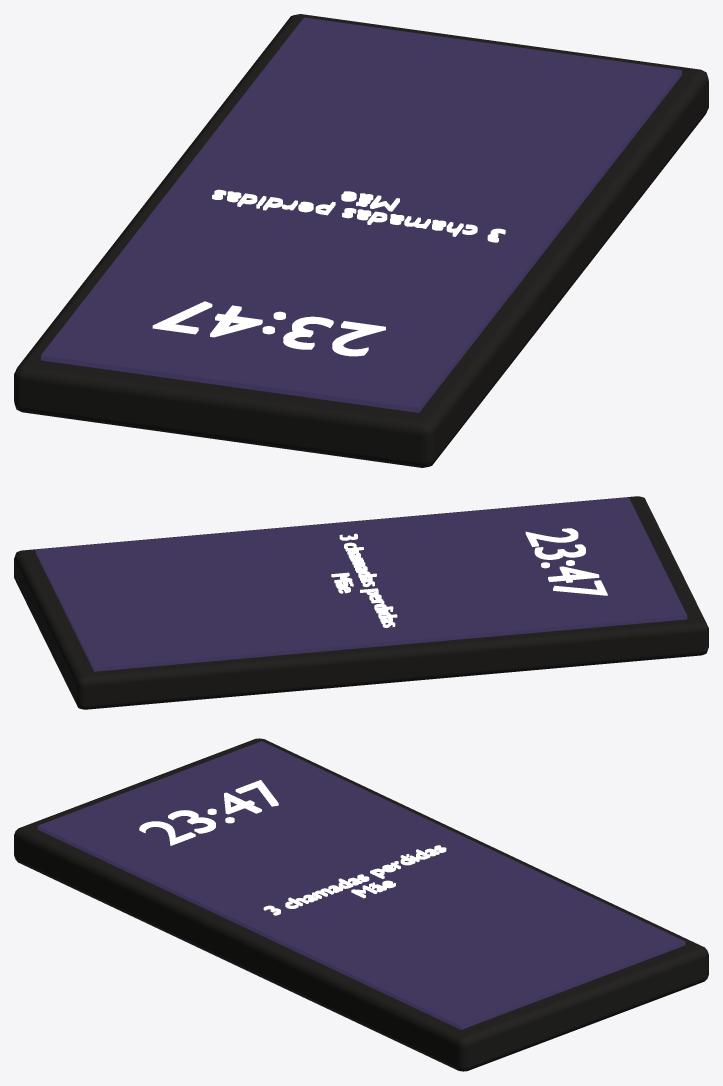
The model's file is ref_V_Celular.glb.
3 renders of one model, top to bottom at view 1: azimuth 30°, elevation 25°; view 2: azimuth 150°, elevation 25°; view 3: azimuth 270°, elevation 25°, orthographic. The views are drawn at different scales.
Visible parts, largest first — view 1: V_Celular_Tela, V_Celular_Corpo, V_Celular_Hora, V_Celular_Aviso; view 2: V_Celular_Tela, V_Celular_Corpo, V_Celular_Hora, V_Celular_Aviso; view 3: V_Celular_Tela, V_Celular_Corpo, V_Celular_Hora, V_Celular_Aviso.
Boxes of the visible parts, left/top/right/bottom form: V_Celular_Tela: left=41, top=17, right=681, bottom=412; V_Celular_Corpo: left=14, top=14, right=708, bottom=467; V_Celular_Hora: left=152, top=301, right=385, bottom=356; V_Celular_Aviso: left=212, top=189, right=505, bottom=242; V_Celular_Tela: left=35, top=497, right=687, bottom=671; V_Celular_Corpo: left=14, top=496, right=708, bottom=709; V_Celular_Hora: left=525, top=528, right=607, bottom=595; V_Celular_Aviso: left=331, top=533, right=397, bottom=627; V_Celular_Tela: left=37, top=741, right=685, bottom=1029; V_Celular_Corpo: left=14, top=738, right=708, bottom=1071; V_Celular_Hora: left=139, top=780, right=278, bottom=845; V_Celular_Aviso: left=263, top=845, right=446, bottom=915.
Bounding box in the file's own units: 0.1682 × 0.0106 × 0.1618.
